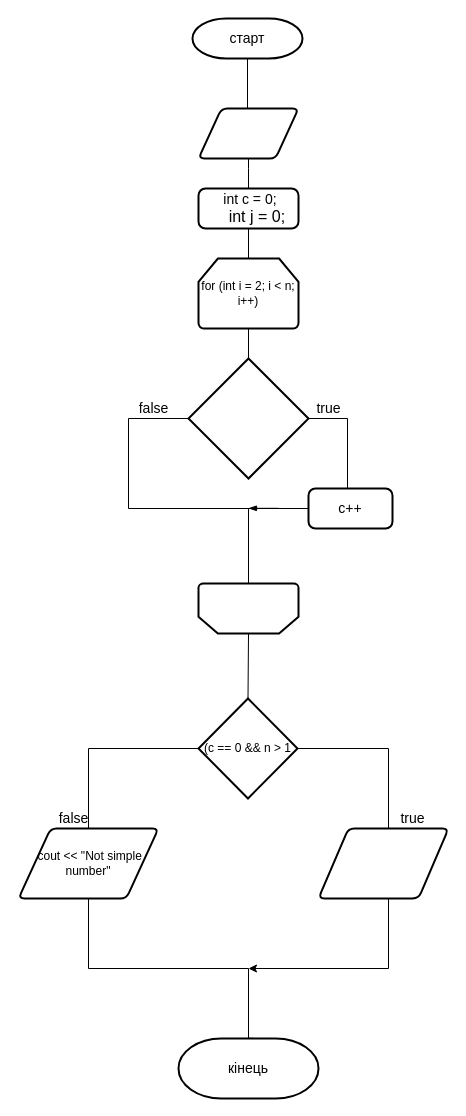
Image size: 466x1116. Some labels were removed from this diagram. Each missing label, with the centre of its shape:
cin n: point 248,133
cout << "Simple number": point 383,863
n % i == 0 && n != 2: point 248,418
